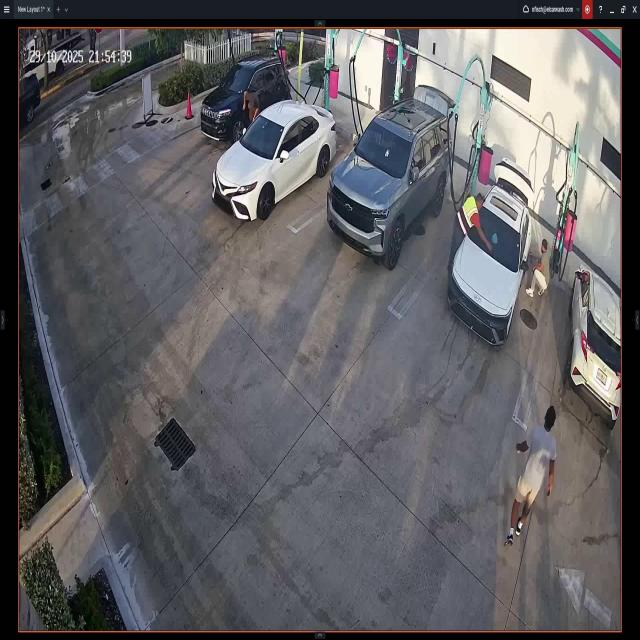Car: (330, 86, 452, 266), (209, 104, 334, 230), (452, 158, 533, 340), (199, 56, 289, 142), (572, 265, 620, 421), (20, 78, 40, 132)
